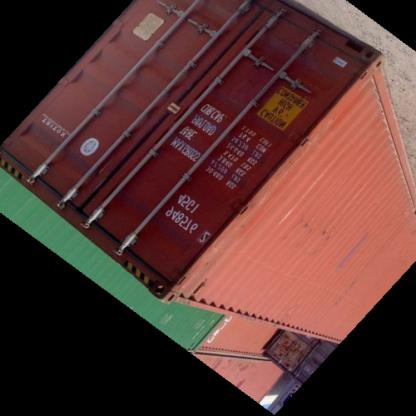Damage: (170, 152, 288, 298)
